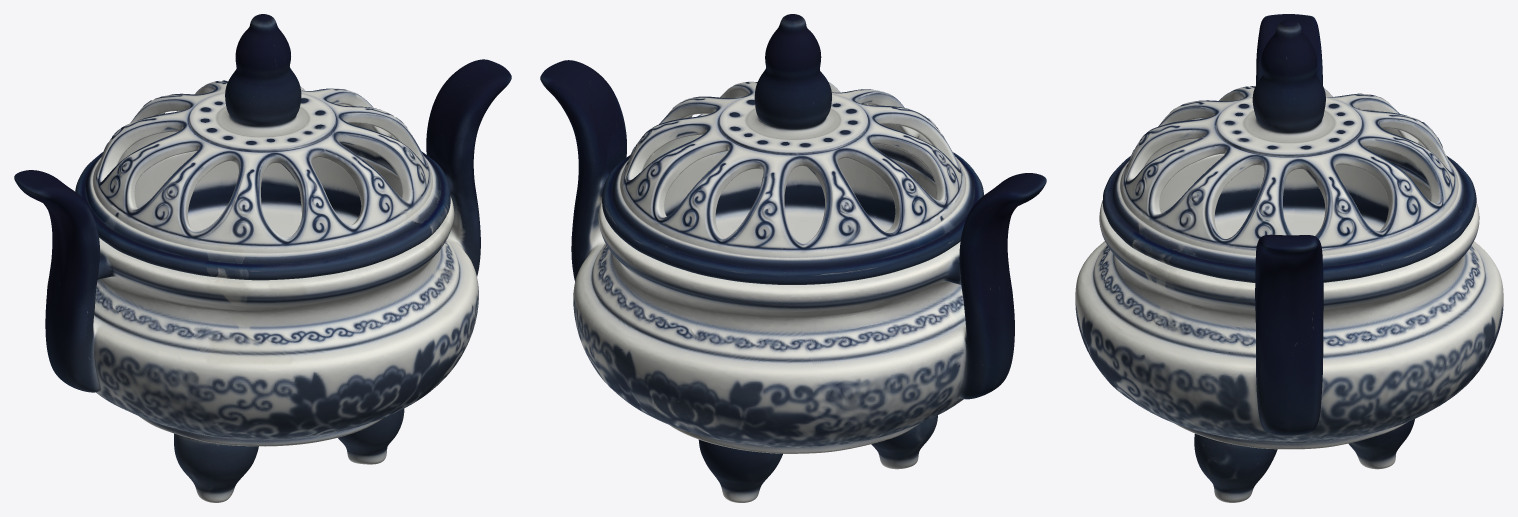
The picture shows the model from 3 angles, left to right: view 1: azimuth 30°, elevation 25°; view 2: azimuth 150°, elevation 25°; view 3: azimuth 270°, elevation 25°; orthographic projection. The views are drawn at different scales.
Size of the model in its own units: 1.9 by 1.67 by 1.47.
1 material, 1 textured.
